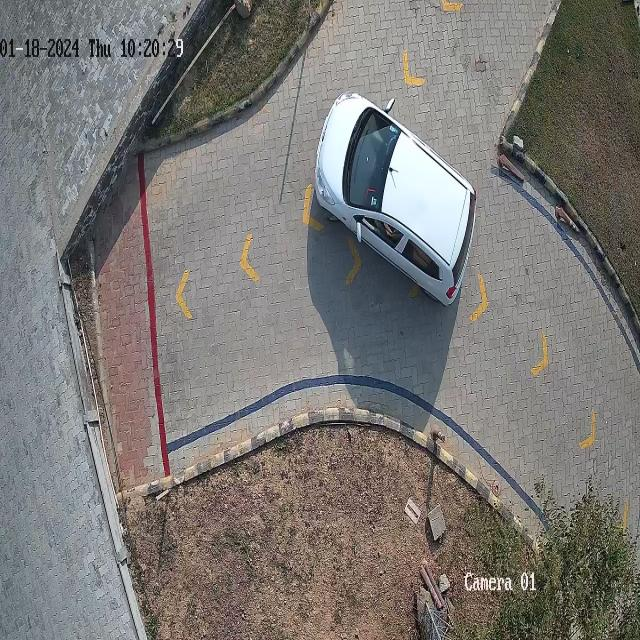car: (314, 89, 478, 305)
